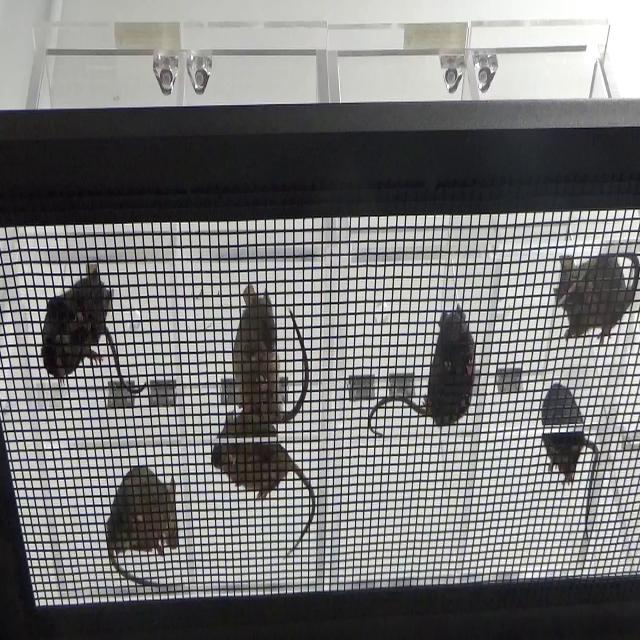lick claw: (226, 268, 313, 433)
lick tail: (37, 254, 152, 409)
scratch: (545, 238, 640, 354)
